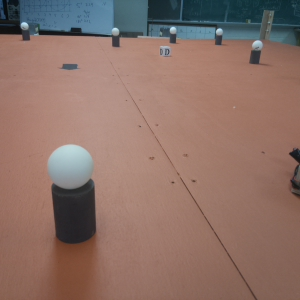blockD: (159, 45, 170, 58)
corner: (261, 10, 272, 39)
obstacle: (49, 142, 94, 246), (250, 40, 262, 65), (215, 27, 224, 48), (20, 21, 29, 41), (111, 27, 119, 47), (169, 26, 177, 45)
start: (60, 60, 79, 73)
